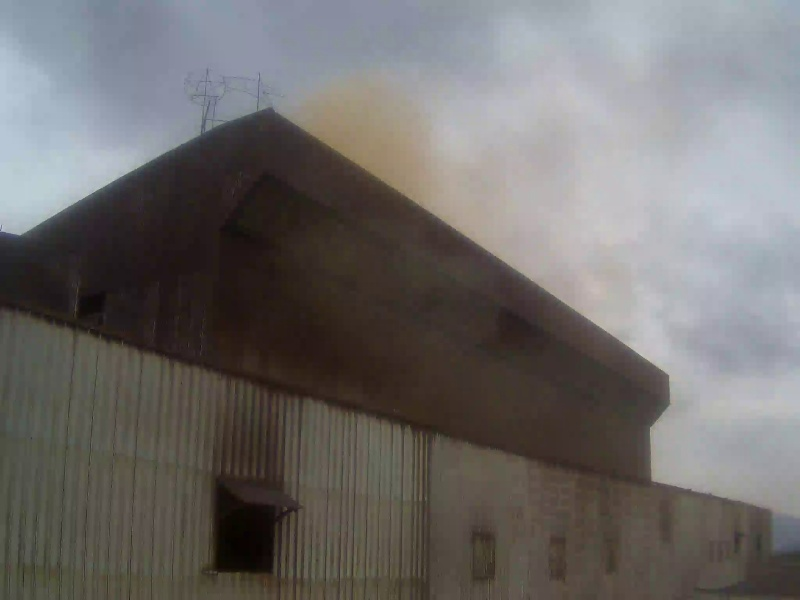bom: (8, 9, 276, 166)
ruim: (288, 53, 584, 327)
